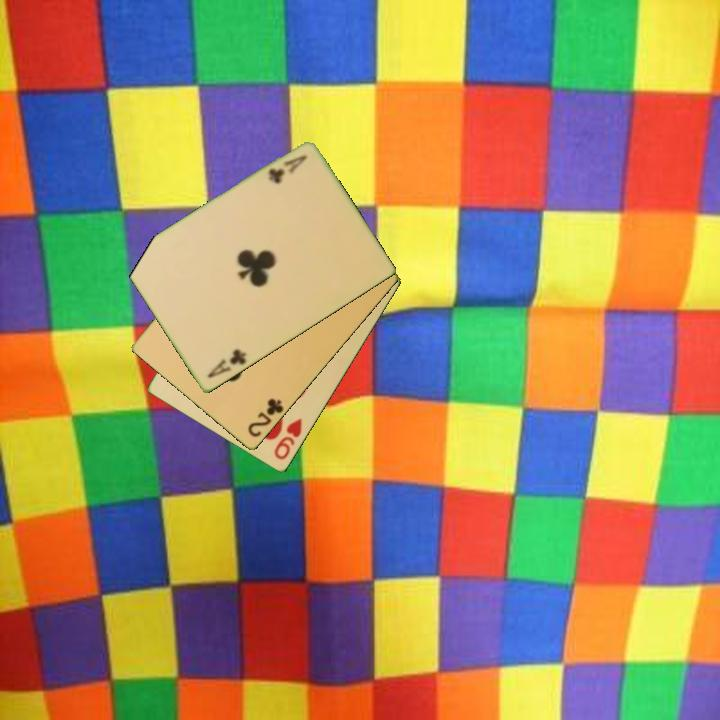2c: (244, 395, 287, 440)
9h: (271, 415, 305, 463)
Ac: (204, 346, 249, 382), (264, 152, 310, 187)
